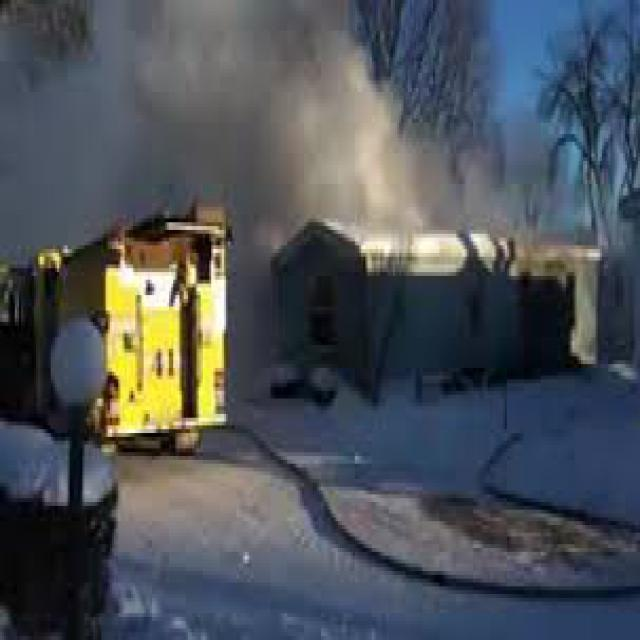Smoke: (0, 0, 596, 291)
